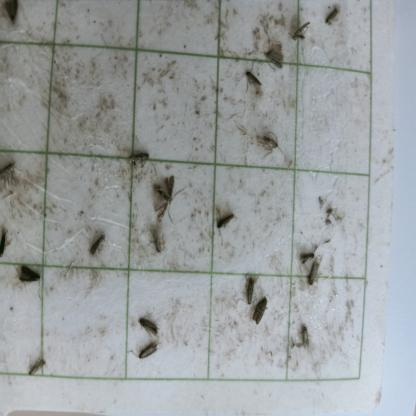prays_oleae: (148, 169, 186, 229), (202, 199, 238, 255), (88, 215, 112, 269), (16, 254, 45, 297), (134, 305, 164, 344), (256, 122, 287, 158), (262, 33, 285, 78), (24, 346, 48, 384), (248, 289, 270, 330), (128, 340, 164, 363), (148, 223, 169, 261), (243, 66, 262, 104), (308, 248, 322, 298), (290, 20, 310, 52), (242, 270, 257, 310), (0, 219, 14, 257), (129, 146, 153, 168), (299, 318, 313, 353), (300, 241, 316, 271), (322, 7, 340, 30)
